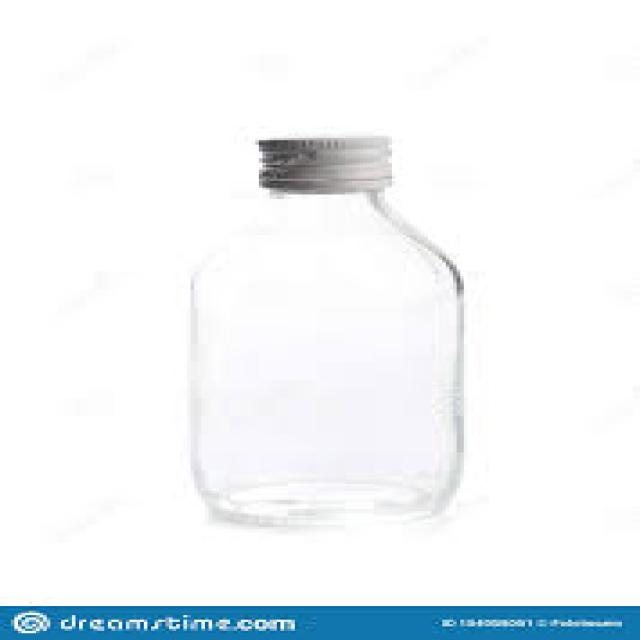glass: (191, 188, 457, 527)
metal: (256, 133, 389, 190)
